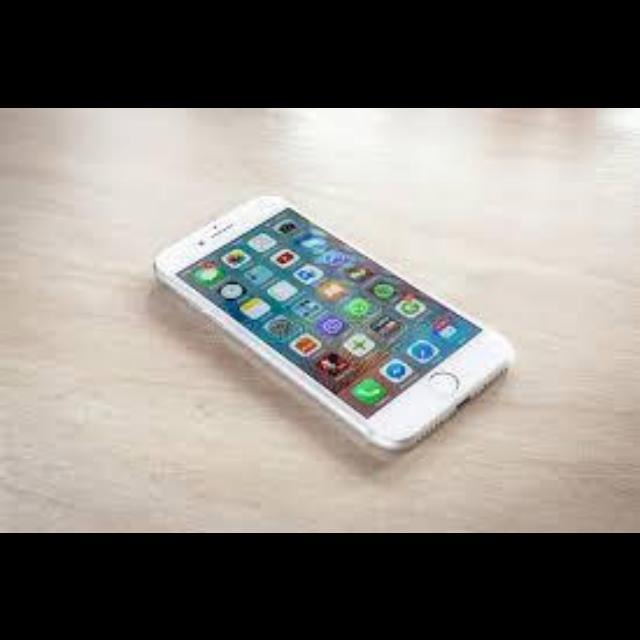Phone: (149, 188, 516, 454)
